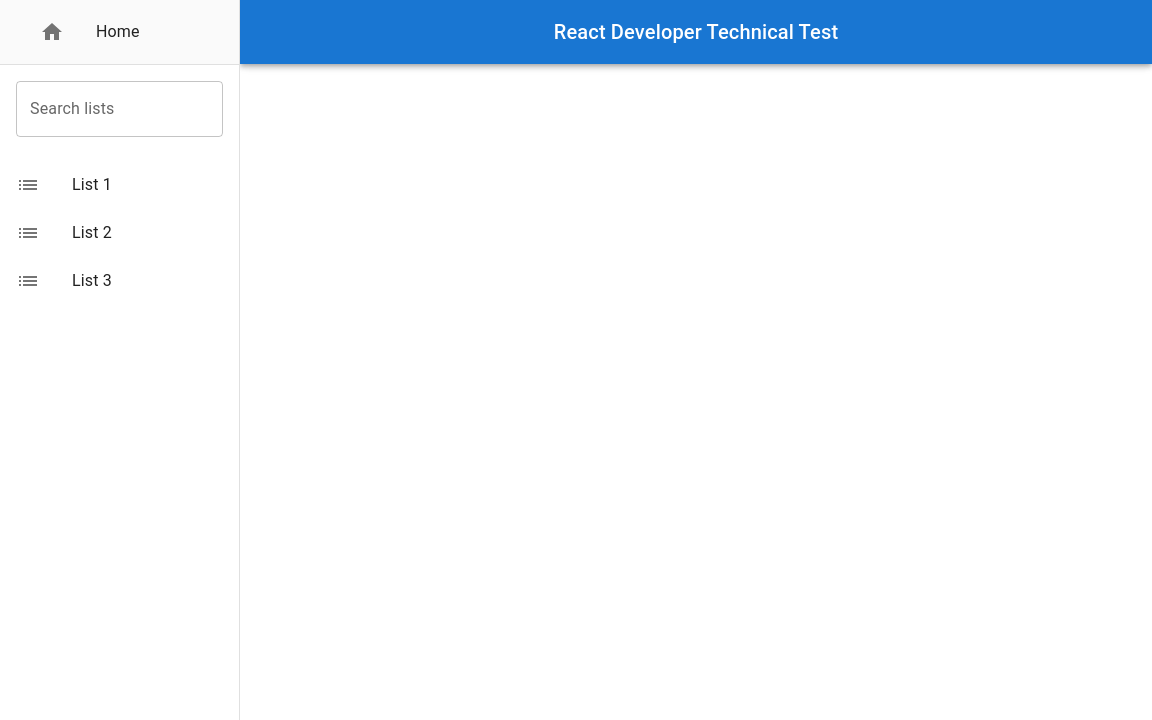
Test: SideBarLayout › clears the search term when clear button is clicked
Type "List 2" into the field.
click(108, 109); type("List 2")  # box [16,81,201,137]
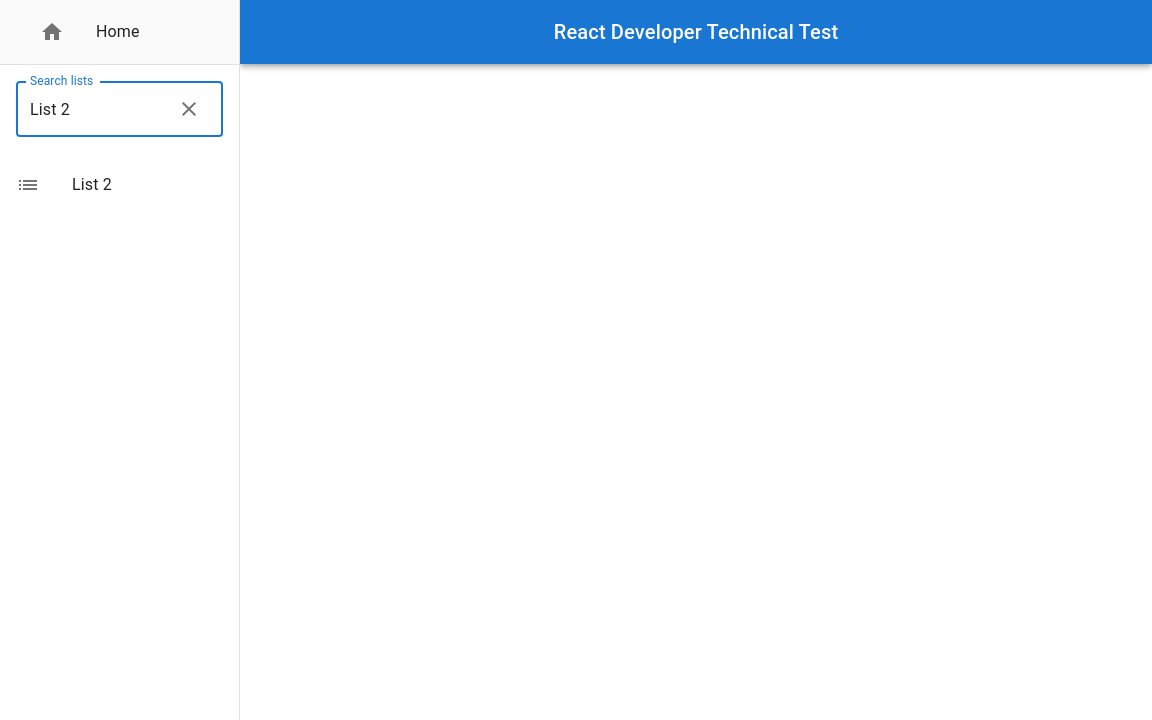
Click the button with test id "clear-button".
click(189, 109)  # box [169,89,209,129]
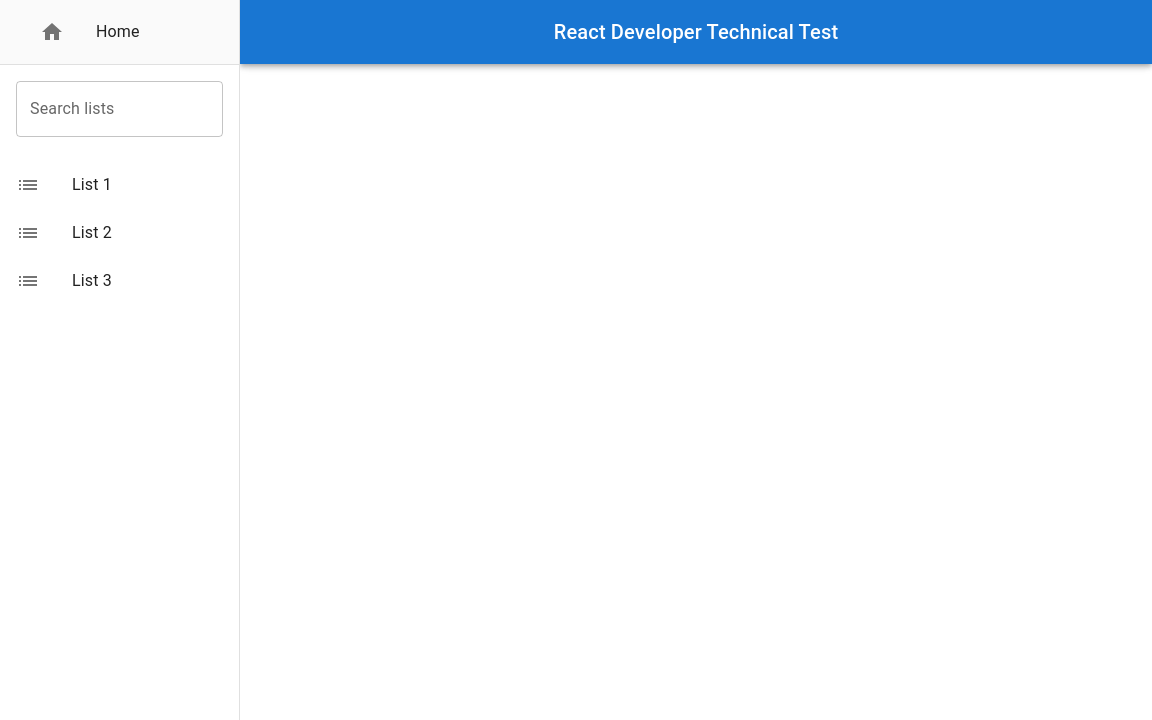
Result: the field is empty at [16,81,201,137]
